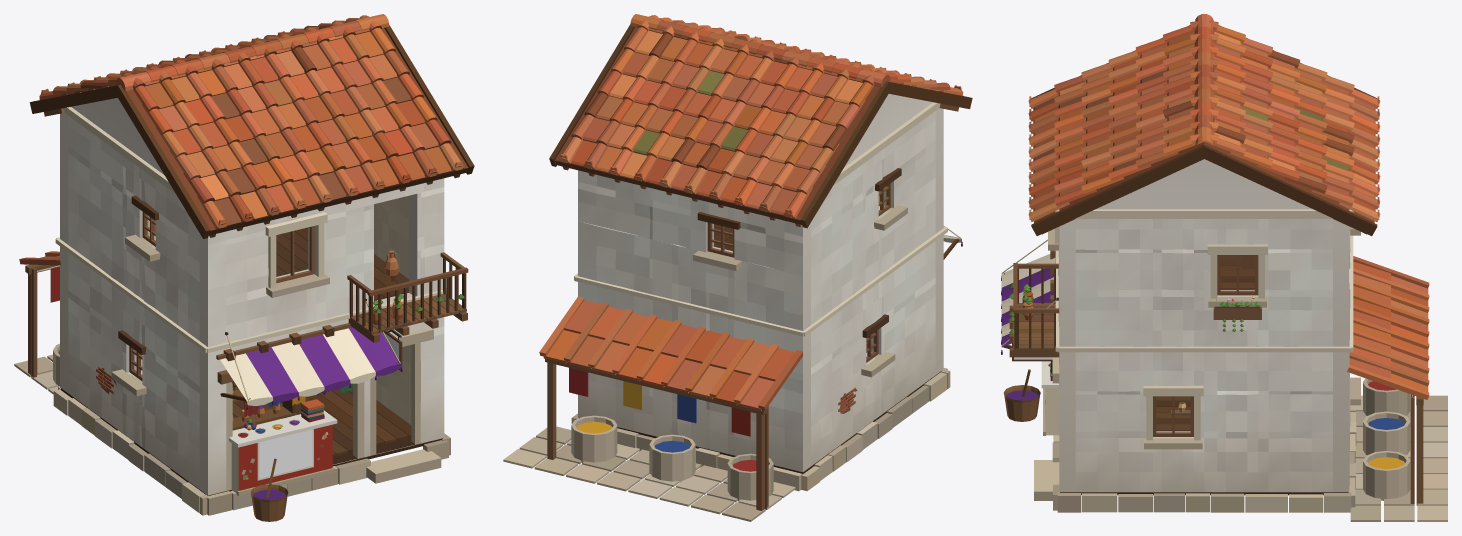
File: shop_dyer.glb
3 renders of one model, left to right at view 1: azimuth 30°, elevation 25°; view 2: azimuth 150°, elevation 25°; view 3: azimuth 270°, elevation 25°, orthographic. The views are drawn at different scales.
Visible parts, largest first — view 1: House, Walls, Rooms; view 2: House, Walls; view 3: House, Walls, Rooms.
Part boxes in pixels (x1,y1,x2,y2): House: (14,14,474,521); Walls: (60,98,444,495); Rooms: (141,196,411,455); House: (503,14,972,521); Walls: (578,94,943,472); House: (1001,14,1447,521); Walls: (1058,159,1350,492); Rooms: (1156,255,1254,431).
Size of the model in its own units: 4.28 by 5.58 by 6.01.
7 materials, 7 textured.
